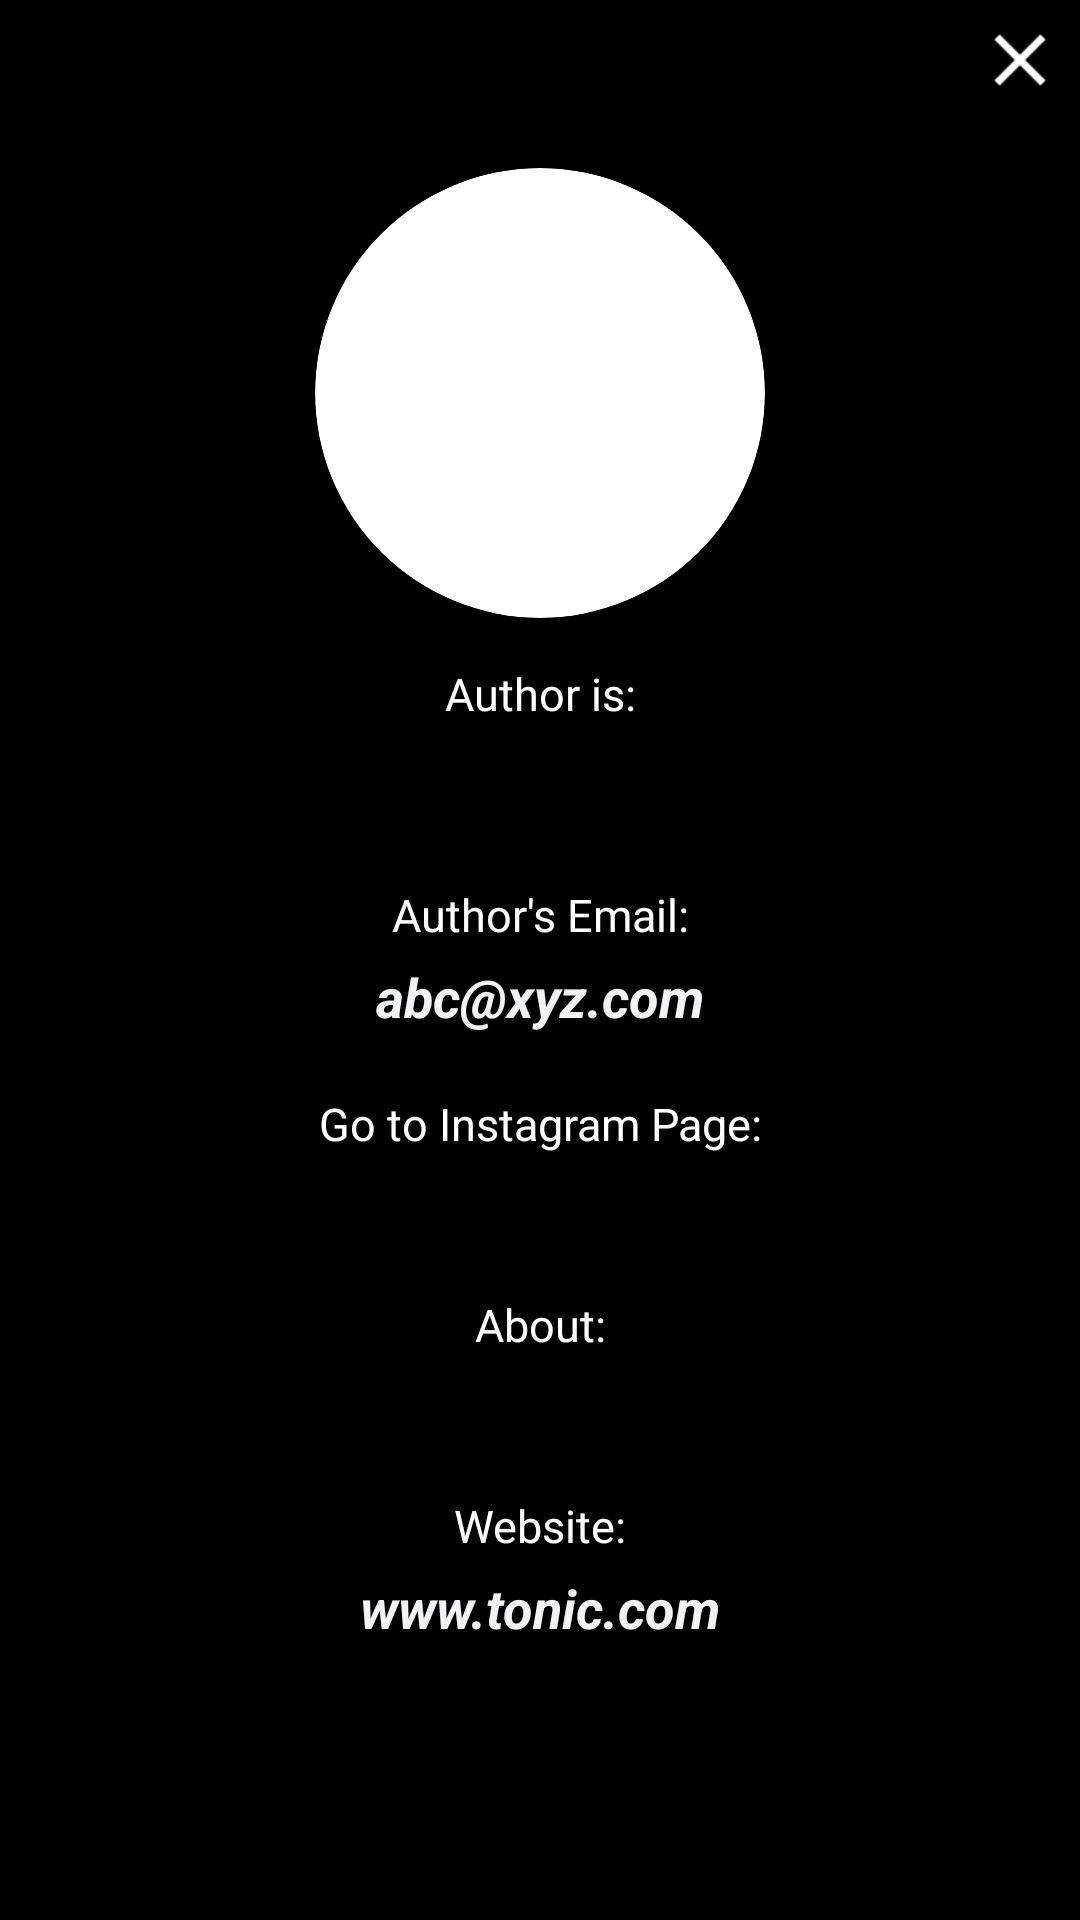

Where to tap for icons on this 1080×1920 app screen, as (x,y):
close: (1020,60)
